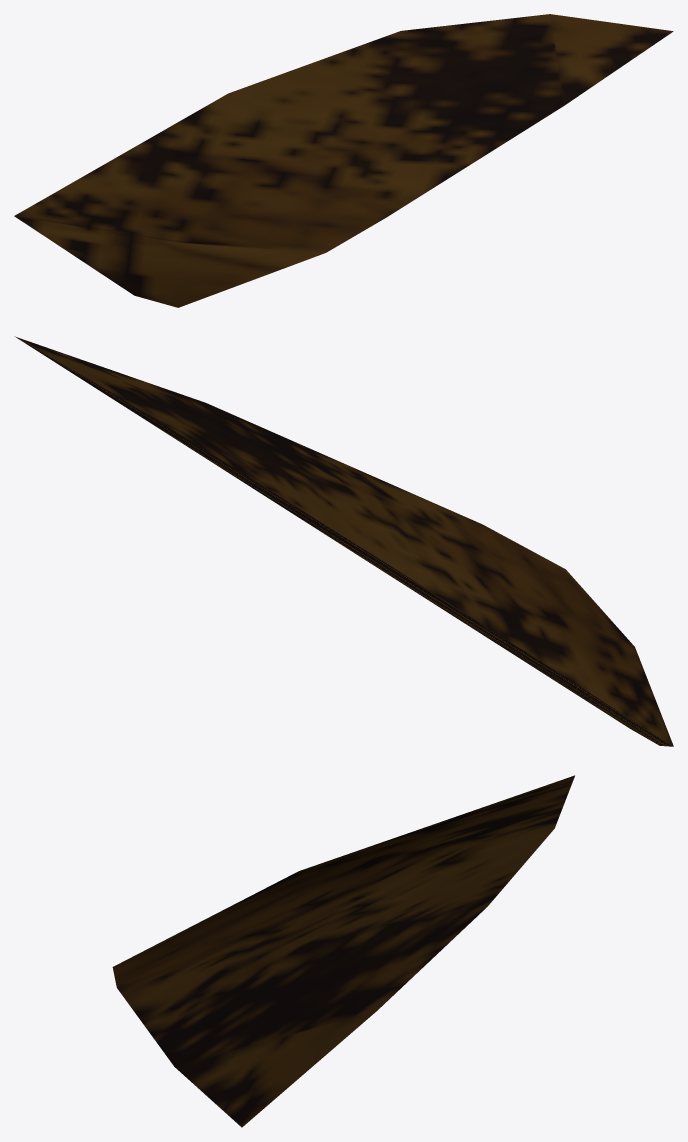
The model's file is PoteryPiece9.fbx.
3 renders of one model, top to bottom at view 1: azimuth 30°, elevation 25°; view 2: azimuth 150°, elevation 25°; view 3: azimuth 270°, elevation 25°, orthographic. The views are drawn at different scales.
Visible parts, largest first — view 1: Cylinder_cell.008; view 2: Cylinder_cell.008; view 3: Cylinder_cell.008.
Part boxes in pixels (box(x1,y1,x2,y2)): Cylinder_cell.008: box(14, 14, 673, 307); Cylinder_cell.008: box(14, 336, 673, 746); Cylinder_cell.008: box(112, 775, 574, 1127).
Size of the model in its own units: 89.57 by 26.73 by 31.12.
